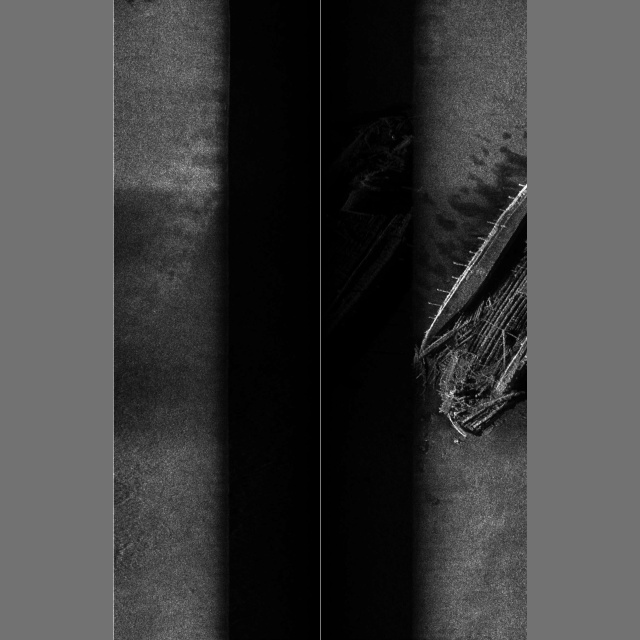Shipwreck: (330, 115, 527, 438)
